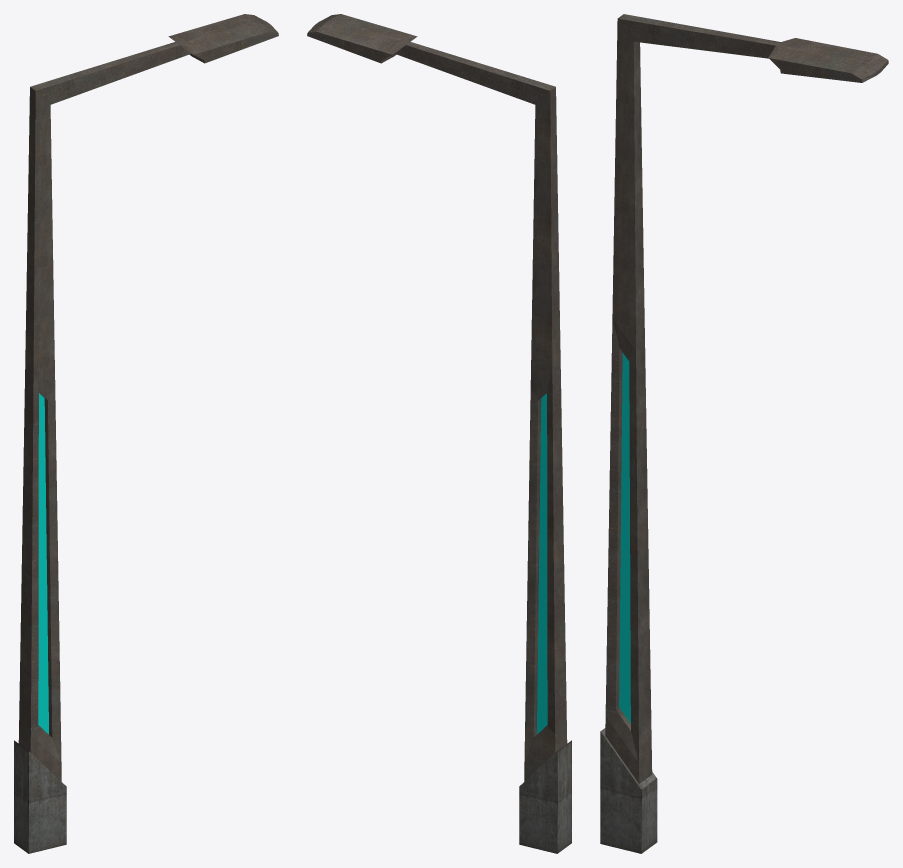
The model's file is lyktstolpe.fbx.
3 views of the same model, side by side, from view 1: azimuth 30°, elevation 25°; view 2: azimuth 150°, elevation 25°; view 3: azimuth 330°, elevation 25° (orthographic). The views are drawn at different scales.
Parts seen in each view (by area): view 1: lyktstolpe; view 2: lyktstolpe; view 3: lyktstolpe.
Part boxes in pixels (<box>): lyktstolpe: <box>14,14,278,853</box>; lyktstolpe: <box>307,14,571,853</box>; lyktstolpe: <box>600,14,888,853</box>.
Bounding box in the file's own units: 6.55 × 19.39 × 1.15.
